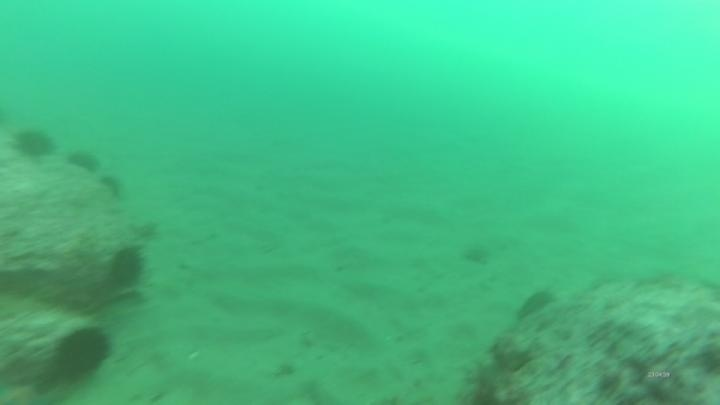echinus: (50, 322, 115, 385), (105, 243, 148, 292), (10, 125, 58, 163), (513, 286, 558, 322), (65, 147, 103, 177), (96, 171, 128, 203), (460, 241, 493, 268)
